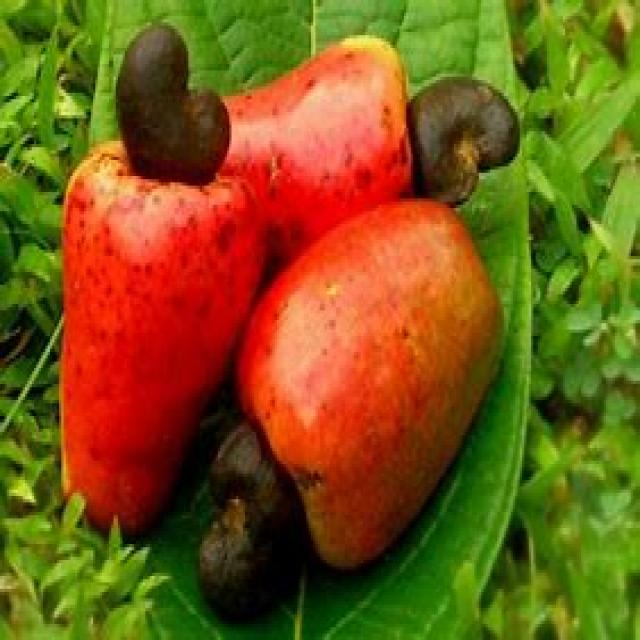cashew: (194, 419, 309, 623), (410, 28, 541, 194), (113, 17, 230, 179)
